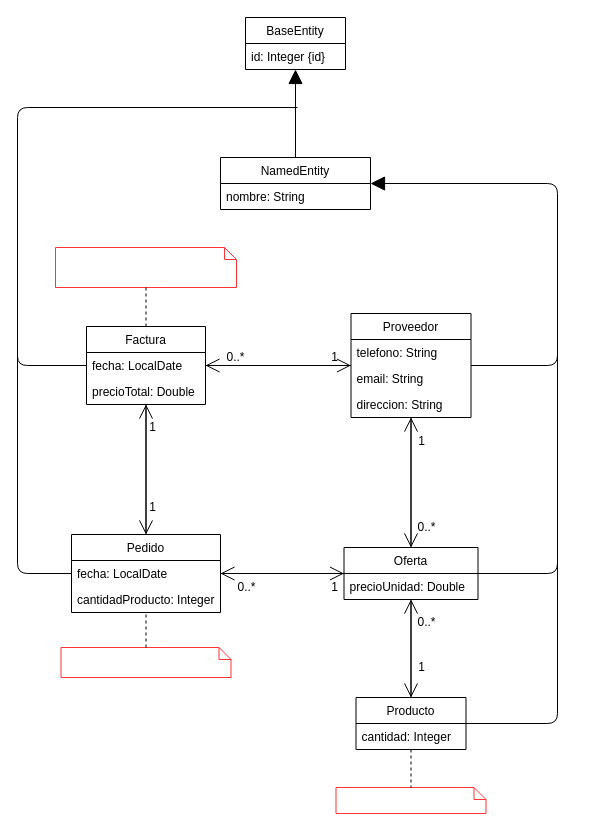
Some shapes in this 589 by 831 pixel diagram are drawn without their labels. Here are the shapes that lost their labels. From the top down, the centre of each, then its label:
pixel 145 267: RN-07-Al hacer un pedido se crea una factura
pixel 145 662: RN-04-Limite precio pedido
pixel 410 800: RN-08-Sumar producto
